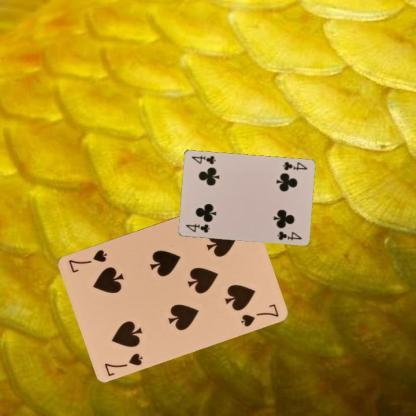4c: (183, 221, 211, 234), (280, 160, 309, 172)
7s: (102, 350, 144, 377)
